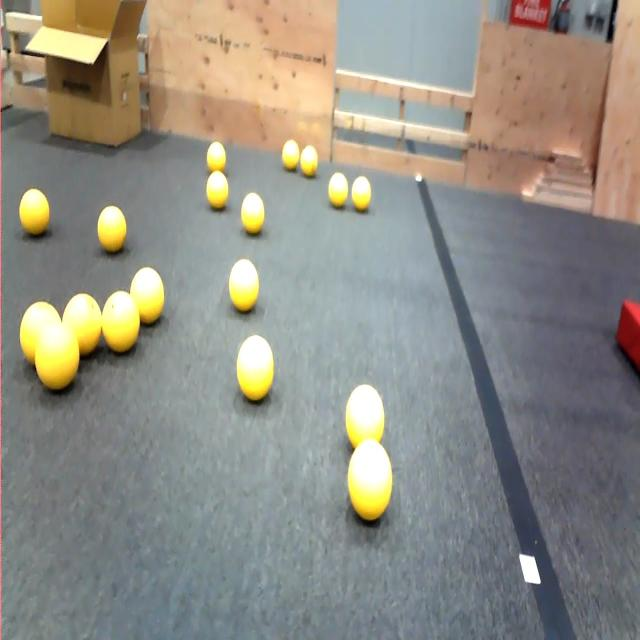fuel: (348, 440, 392, 521), (35, 322, 79, 391), (62, 293, 101, 357), (20, 302, 60, 364), (346, 384, 384, 447), (237, 336, 273, 401), (103, 291, 140, 353), (130, 267, 164, 325), (229, 259, 258, 312), (19, 189, 49, 236), (98, 206, 126, 253), (241, 192, 264, 234), (206, 171, 228, 209), (328, 172, 349, 208), (352, 176, 371, 211), (207, 142, 226, 172), (300, 145, 317, 177), (282, 140, 299, 171)
